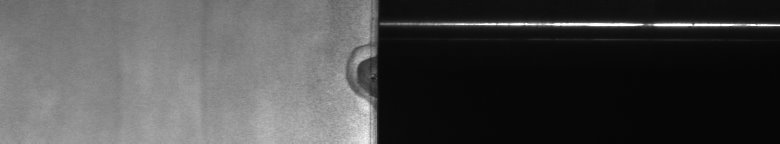hb: (312, 36, 368, 118)
